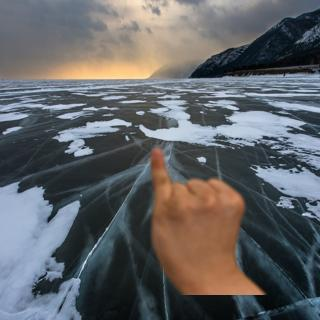FINE: (142, 144, 249, 281)
